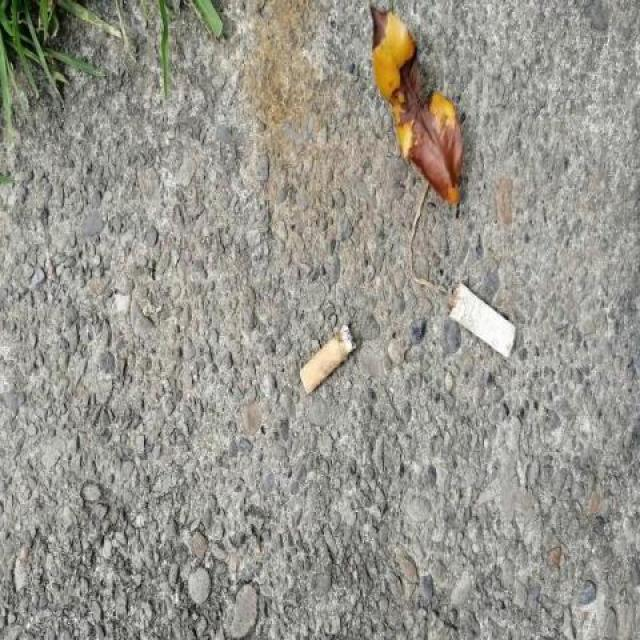non-organic waste: (445, 277, 519, 366), (295, 320, 361, 400)
